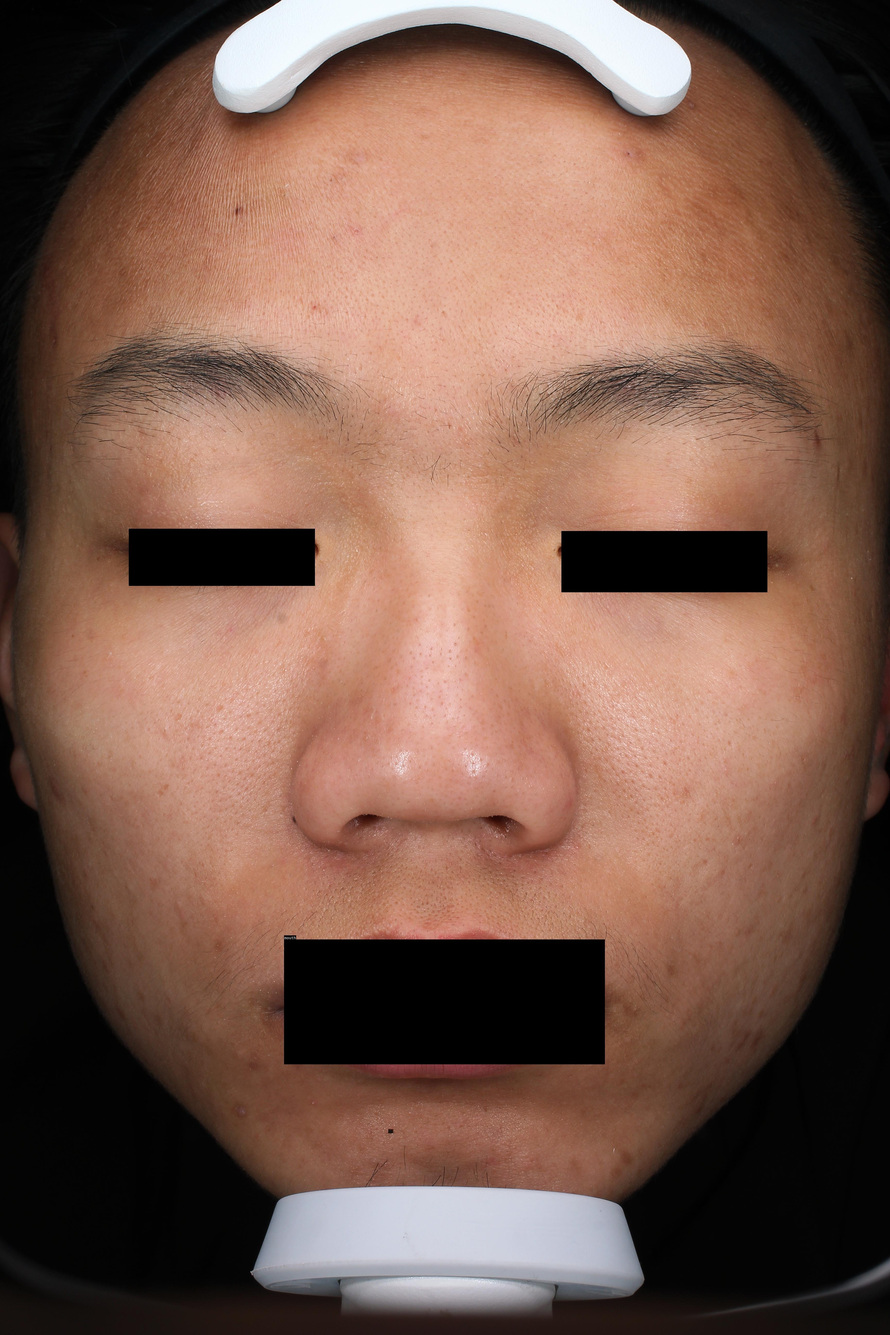atrophic_scar: (214, 704, 224, 714), (155, 789, 164, 798), (172, 713, 182, 721), (441, 310, 447, 320), (163, 784, 170, 792), (727, 740, 733, 749), (357, 362, 362, 371), (748, 862, 753, 870), (705, 859, 707, 867)
closed_comedo: (232, 1048, 246, 1062), (126, 883, 133, 894), (796, 949, 803, 959), (175, 901, 182, 910), (769, 988, 775, 996), (632, 1006, 638, 1013), (321, 636, 328, 641), (735, 929, 740, 935), (576, 846, 579, 849)
melasma: (809, 584, 817, 592), (71, 634, 76, 640)
nevus: (234, 207, 244, 215), (291, 816, 297, 823)
open_comedo: (161, 727, 169, 735), (328, 177, 335, 183), (331, 235, 337, 240), (261, 311, 267, 315), (283, 193, 287, 197)
other: (275, 611, 290, 626), (387, 1128, 394, 1134)
papule: (235, 1105, 249, 1118), (50, 781, 62, 795), (623, 149, 638, 159), (810, 817, 818, 826)
pustule: (310, 1101, 315, 1105)
